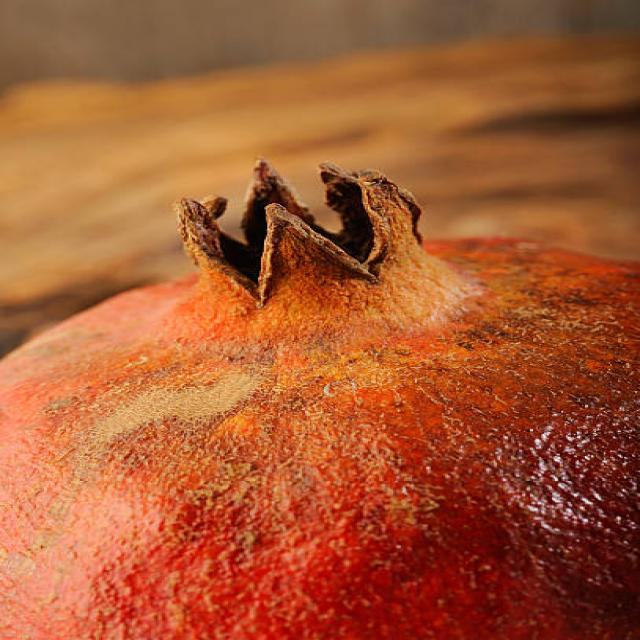overripe: (4, 151, 640, 640)
